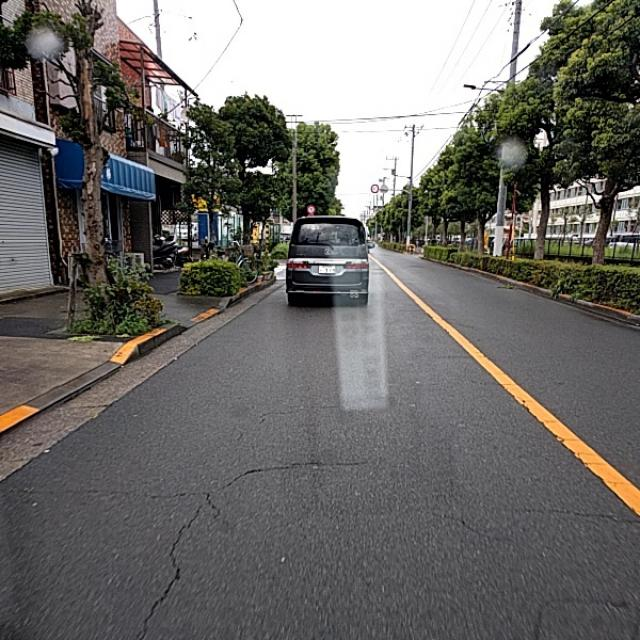pothole: (145, 468, 225, 570)
